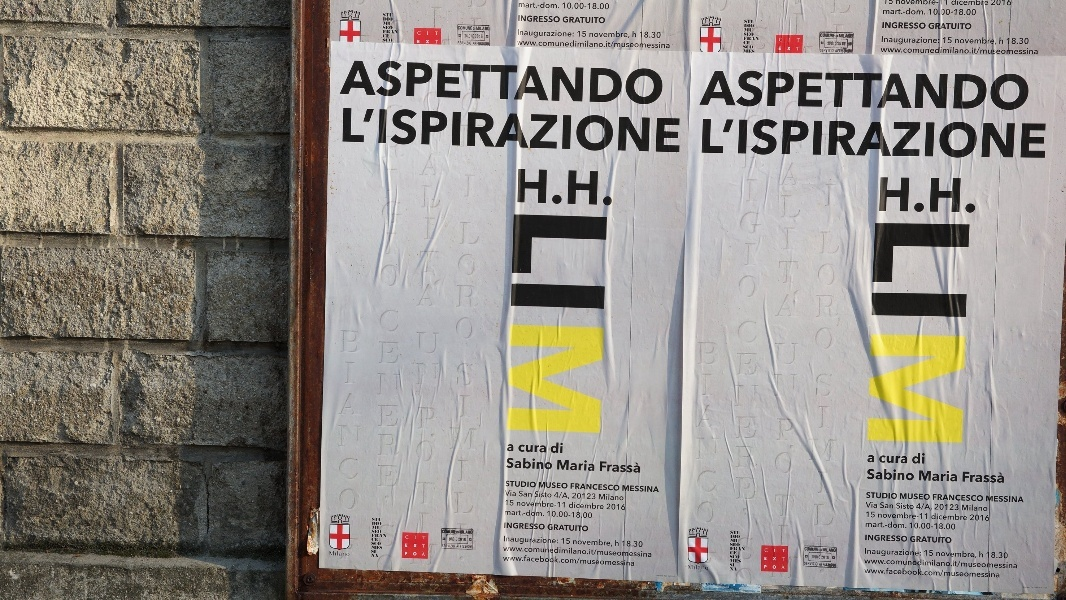text: (881, 221, 896, 444), (897, 221, 912, 444), (913, 221, 928, 444), (929, 221, 944, 444), (945, 221, 960, 444), (529, 213, 544, 434), (545, 213, 560, 434), (561, 213, 576, 434), (577, 213, 592, 434), (593, 213, 608, 434), (514, 213, 528, 434), (705, 340, 720, 527), (737, 320, 752, 502), (385, 309, 400, 490), (417, 331, 432, 507), (785, 163, 801, 320), (339, 329, 352, 512), (817, 373, 832, 528), (961, 221, 971, 444), (451, 361, 464, 517), (465, 221, 481, 342), (420, 151, 432, 309), (465, 361, 476, 517), (353, 329, 362, 512), (739, 176, 752, 300), (820, 230, 832, 351), (433, 331, 441, 507), (385, 198, 400, 288), (833, 230, 844, 351), (753, 320, 760, 502), (433, 151, 441, 309), (698, 340, 704, 527), (753, 176, 762, 300), (875, 221, 880, 444), (810, 373, 816, 528), (379, 309, 384, 490), (785, 525, 801, 581), (785, 341, 800, 399), (417, 512, 432, 569), (737, 536, 752, 587), (458, 221, 464, 342), (353, 107, 368, 154), (369, 107, 384, 154), (385, 107, 400, 154), (401, 107, 416, 154), (417, 107, 432, 154), (433, 107, 448, 154), (449, 107, 464, 154), (465, 107, 480, 154), (481, 107, 496, 154), (497, 107, 512, 154), (513, 107, 528, 154), (529, 107, 544, 154), (545, 107, 560, 154), (561, 107, 576, 154), (577, 107, 592, 154), (593, 107, 608, 154), (609, 107, 624, 154), (625, 107, 640, 154), (641, 107, 656, 154), (657, 107, 672, 154), (785, 418, 797, 476), (369, 60, 384, 105), (385, 60, 400, 105), (401, 60, 416, 105), (417, 60, 432, 105), (433, 60, 448, 105), (449, 60, 464, 105), (465, 60, 480, 105), (481, 60, 496, 105), (497, 60, 512, 105), (513, 60, 528, 105), (529, 60, 544, 105), (545, 60, 560, 105), (561, 60, 576, 105), (577, 60, 592, 105), (593, 60, 608, 105), (609, 60, 624, 105), (625, 60, 640, 105), (641, 60, 656, 105), (385, 523, 397, 576), (705, 119, 720, 160), (721, 119, 736, 160), (737, 119, 752, 160), (753, 119, 768, 160), (769, 119, 784, 160), (785, 119, 800, 160), (801, 119, 816, 160), (817, 119, 832, 160), (833, 119, 848, 160), (849, 119, 864, 160), (865, 119, 880, 160), (881, 119, 896, 160), (897, 119, 912, 160), (913, 119, 928, 160), (929, 119, 944, 160), (945, 119, 960, 160), (961, 119, 976, 160), (977, 119, 992, 160), (993, 119, 1008, 160), (1009, 119, 1024, 160), (1025, 119, 1040, 160), (721, 71, 736, 111), (737, 71, 752, 111), (753, 71, 768, 111), (769, 71, 784, 111), (785, 71, 800, 111), (801, 71, 816, 111), (817, 71, 832, 111), (833, 71, 848, 111), (849, 71, 864, 111), (865, 71, 880, 111), (881, 71, 896, 111), (897, 71, 912, 111), (913, 71, 928, 111), (929, 71, 944, 111), (945, 71, 960, 111), (961, 71, 976, 111), (977, 71, 992, 111), (993, 71, 1008, 111), (1009, 71, 1024, 111), (355, 60, 368, 105), (529, 169, 544, 207), (545, 169, 560, 207), (561, 169, 576, 207), (577, 169, 592, 207), (593, 169, 608, 207), (881, 177, 896, 215), (897, 177, 912, 215), (913, 177, 928, 215), (929, 177, 944, 215), (945, 177, 960, 215), (961, 177, 976, 215), (776, 341, 784, 399), (433, 512, 441, 569), (343, 107, 352, 154), (777, 418, 784, 476), (777, 525, 784, 581), (657, 60, 665, 105), (401, 198, 405, 288), (519, 169, 528, 207), (673, 107, 680, 154), (782, 163, 784, 320), (833, 373, 835, 528), (785, 494, 797, 519), (465, 173, 476, 199), (773, 494, 784, 519), (379, 523, 384, 576), (513, 554, 528, 568), (529, 554, 544, 568), (545, 554, 560, 568), (561, 554, 576, 568), (577, 554, 592, 568), (593, 554, 608, 568), (609, 554, 624, 568), (833, 182, 841, 208), (1041, 119, 1046, 160), (753, 536, 757, 587), (715, 71, 720, 111), (513, 458, 528, 471), (529, 458, 544, 471), (513, 545, 528, 558), (529, 545, 544, 558), (545, 545, 560, 558), (561, 545, 576, 558), (577, 545, 592, 558), (593, 545, 608, 558), (609, 545, 624, 558), (625, 545, 640, 558), (625, 462, 641, 474), (721, 340, 722, 527), (825, 182, 832, 208), (401, 309, 402, 490), (561, 460, 576, 472), (577, 460, 592, 472), (609, 462, 624, 474), (881, 469, 896, 481), (897, 469, 912, 481), (977, 472, 992, 484), (913, 453, 928, 464), (929, 471, 944, 482), (865, 558, 880, 569), (881, 558, 896, 569), (897, 558, 912, 569), (913, 558, 928, 569), (929, 558, 944, 569), (945, 558, 960, 569), (961, 558, 976, 569), (977, 558, 992, 569), (993, 558, 1008, 569), (865, 567, 880, 578), (881, 567, 896, 578), (897, 567, 912, 578), (913, 567, 928, 578), (929, 567, 944, 578), (945, 567, 960, 578), (961, 567, 976, 578), (977, 567, 992, 578), (1025, 71, 1029, 111), (963, 472, 976, 484), (529, 39, 544, 49), (545, 39, 560, 49), (561, 39, 576, 49), (577, 39, 592, 49), (593, 39, 608, 49), (609, 39, 624, 49), (625, 39, 640, 49), (641, 39, 656, 49), (868, 469, 880, 481), (993, 472, 1005, 484), (945, 471, 958, 482), (641, 545, 652, 558), (657, 39, 671, 49), (625, 554, 635, 568), (529, 29, 544, 38), (545, 29, 560, 38), (897, 37, 912, 46), (913, 37, 928, 46), (961, 36, 976, 45), (977, 36, 992, 45), (881, 46, 896, 55), (897, 46, 912, 55), (913, 46, 928, 55), (929, 46, 944, 55), (945, 46, 960, 55), (961, 46, 976, 55), (977, 46, 992, 55), (993, 46, 1008, 55), (1009, 46, 1024, 55), (577, 482, 592, 491), (593, 482, 608, 491), (513, 536, 528, 545), (529, 536, 544, 545), (577, 539, 592, 548), (593, 539, 608, 548), (865, 548, 880, 557), (881, 548, 896, 557), (897, 548, 912, 557), (945, 550, 960, 559), (961, 550, 976, 559), (502, 545, 512, 558), (561, 29, 575, 38), (882, 37, 896, 46), (1025, 46, 1039, 55), (545, 536, 559, 545), (503, 554, 512, 568), (529, 2, 544, 10), (545, 2, 560, 10), (577, 2, 592, 10), (593, 2, 608, 10), (577, 16, 592, 24), (593, 31, 608, 39), (609, 31, 624, 39), (561, 511, 576, 519), (577, 511, 592, 519), (529, 445, 544, 453), (881, 456, 896, 464), (897, 8, 912, 16), (513, 480, 528, 488), (625, 485, 640, 493), (641, 485, 656, 493), (577, 502, 592, 510), (561, 524, 576, 532), (625, 540, 640, 548), (945, 494, 960, 502), (961, 494, 976, 502), (881, 512, 896, 520), (897, 512, 912, 520), (913, 512, 928, 520), (945, 513, 960, 521), (881, 521, 896, 529), (881, 534, 896, 542), (609, 169, 612, 207), (545, 16, 561, 23), (529, 510, 545, 517), (529, 523, 545, 530), (1009, 496, 1025, 503), (866, 521, 880, 529), (866, 534, 880, 542), (945, 503, 959, 511), (993, 552, 1009, 559), (517, 39, 528, 49), (529, 16, 544, 23), (641, 32, 656, 39), (929, 9, 944, 16), (945, 9, 960, 16), (961, 9, 976, 16), (913, 523, 928, 530), (929, 523, 944, 530), (897, 22, 912, 29), (929, 23, 944, 30), (945, 23, 960, 30), (1009, 38, 1024, 45), (545, 482, 560, 489), (529, 501, 544, 508), (545, 501, 560, 508), (513, 510, 528, 517), (609, 494, 624, 501), (609, 504, 624, 511), (577, 493, 592, 500), (513, 523, 528, 530), (881, 492, 896, 499), (913, 494, 928, 501), (993, 496, 1008, 503), (881, 502, 896, 509), (897, 503, 912, 510), (913, 536, 928, 543), (929, 536, 944, 543), (563, 2, 576, 10), (563, 16, 576, 24), (593, 16, 606, 24), (545, 458, 553, 471), (913, 8, 926, 16), (963, 504, 976, 512), (929, 37, 940, 46), (609, 482, 620, 491), (1009, 558, 1018, 569), (578, 31, 592, 38), (913, 22, 927, 29), (562, 538, 576, 545), (866, 502, 880, 509), (548, 511, 560, 519), (600, 462, 608, 474), (884, 8, 896, 16), (593, 502, 605, 510), (548, 524, 560, 532), (577, 524, 589, 532), (769, 564, 785, 570), (932, 513, 944, 521), (883, 22, 896, 29), (977, 515, 990, 522), (518, 29, 528, 38), (689, 565, 704, 571), (383, 198, 384, 288), (869, 455, 880, 463), (897, 456, 908, 464), (920, 471, 928, 482), (933, 494, 944, 502), (977, 504, 988, 512), (897, 534, 908, 542), (868, 492, 880, 499), (866, 512, 880, 518), (980, 551, 992, 558), (702, 119, 704, 160), (913, 548, 922, 557), (897, 521, 907, 529), (918, 503, 928, 511), (337, 551, 350, 557), (945, 523, 956, 530), (553, 443, 560, 454), (961, 23, 972, 30), (901, 494, 912, 501), (993, 567, 1000, 578), (897, 1, 912, 6), (913, 1, 928, 6), (929, 1, 944, 6), (961, 1, 976, 6), (993, 1, 1008, 6), (449, 537, 464, 542), (519, 2, 528, 10), (519, 445, 528, 453), (936, 550, 944, 559), (935, 503, 944, 511), (418, 31, 432, 36), (518, 501, 528, 508), (561, 493, 571, 500), (405, 543, 416, 549), (529, 480, 537, 488), (769, 549, 785, 553), (769, 557, 785, 561), (519, 16, 528, 23), (535, 491, 544, 498), (599, 494, 608, 501), (505, 536, 512, 545), (484, 26, 496, 31), (785, 38, 800, 42), (785, 47, 800, 51), (977, 1, 989, 6), (449, 530, 464, 534), (820, 548, 832, 553), (1025, 586, 1040, 590), (466, 26, 480, 30), (466, 34, 480, 38), (418, 40, 432, 44), (833, 42, 847, 46), (1000, 37, 1008, 44), (520, 491, 528, 498), (569, 502, 576, 510), (616, 540, 624, 547), (961, 513, 968, 521), (405, 552, 416, 557), (805, 547, 816, 552), (570, 482, 576, 491), (417, 543, 426, 549), (385, 30, 398, 34), (508, 458, 512, 471), (371, 554, 384, 558), (817, 555, 830, 559), (886, 1, 896, 6), (633, 31, 640, 38), (945, 37, 952, 44), (561, 482, 568, 489), (545, 491, 552, 498), (505, 523, 512, 530), (945, 536, 952, 543), (625, 31, 631, 39), (836, 34, 848, 38), (836, 49, 848, 53), (506, 480, 512, 488), (372, 518, 384, 522), (372, 530, 384, 534), (372, 534, 384, 538), (372, 538, 384, 542), (372, 542, 384, 546), (372, 546, 384, 550), (372, 550, 384, 554), (820, 563, 832, 567), (977, 494, 983, 502), (993, 36, 998, 45), (657, 575, 672, 578), (417, 552, 426, 557), (821, 34, 832, 38), (821, 49, 832, 53), (805, 562, 816, 566), (505, 491, 512, 497), (506, 510, 512, 517), (329, 551, 336, 557), (970, 515, 976, 522), (952, 1, 960, 6), (406, 536, 416, 540), (929, 503, 934, 511), (467, 42, 480, 45), (481, 42, 490, 46), (956, 36, 960, 45), (506, 500, 512, 506), (609, 539, 613, 548), (417, 536, 426, 540), (539, 482, 544, 489), (561, 501, 566, 508), (449, 544, 456, 549), (987, 496, 992, 503), (987, 552, 992, 559), (373, 522, 384, 525), (373, 526, 384, 529), (385, 13, 393, 17), (385, 17, 393, 21), (385, 26, 393, 30), (385, 38, 393, 42), (744, 33, 752, 37), (744, 37, 752, 41), (744, 41, 752, 45), (744, 45, 752, 49), (744, 49, 752, 53), (508, 444, 512, 452), (465, 530, 473, 534), (465, 545, 473, 549), (737, 547, 745, 551), (433, 31, 439, 36), (442, 544, 448, 549), (929, 550, 934, 556), (657, 32, 661, 39), (745, 20, 752, 24), (745, 24, 752, 28), (745, 28, 752, 32), (753, 37, 760, 41), (1025, 38, 1029, 45), (556, 493, 560, 500), (457, 545, 464, 549), (1041, 586, 1048, 590), (573, 539, 576, 548), (463, 173, 464, 199), (731, 530, 736, 535), (474, 42, 480, 46), (433, 40, 439, 44), (558, 460, 560, 472), (593, 460, 595, 472), (913, 469, 915, 481), (657, 485, 660, 493), (513, 491, 517, 497), (705, 565, 709, 571), (442, 530, 448, 534), (730, 555, 736, 559), (730, 563, 736, 567), (730, 567, 736, 571), (764, 564, 768, 570), (561, 443, 563, 454), (385, 22, 392, 25), (529, 491, 532, 498), (573, 493, 576, 500), (593, 493, 596, 500), (385, 34, 390, 38), (779, 47, 784, 51), (849, 34, 854, 38), (737, 530, 741, 535), (731, 543, 736, 547), (731, 547, 736, 551), (731, 551, 736, 555), (731, 559, 736, 563), (737, 559, 742, 563), (833, 548, 837, 553), (925, 550, 928, 556), (590, 31, 592, 39), (780, 38, 784, 42), (849, 49, 853, 53), (828, 42, 832, 46), (545, 445, 547, 453), (641, 540, 643, 548), (812, 555, 816, 559), (477, 26, 480, 31), (945, 1, 948, 6), (1009, 1, 1012, 6), (673, 575, 678, 578), (731, 535, 736, 538), (731, 539, 736, 542), (910, 523, 912, 530), (929, 494, 931, 501), (910, 536, 912, 543), (481, 34, 484, 38), (753, 20, 756, 24), (753, 49, 756, 53), (833, 34, 836, 38), (737, 543, 740, 547), (737, 555, 740, 559), (765, 549, 768, 553), (765, 557, 768, 561), (833, 563, 836, 567), (481, 26, 483, 31), (465, 537, 467, 542), (817, 547, 819, 552), (737, 535, 740, 538), (977, 550, 978, 559), (609, 2, 610, 10), (753, 24, 755, 28), (753, 33, 755, 37), (513, 444, 514, 452), (623, 485, 624, 493), (623, 540, 624, 548), (385, 534, 387, 538), (879, 512, 880, 520), (1022, 586, 1024, 590), (943, 37, 944, 44), (1007, 38, 1008, 45), (607, 504, 608, 511), (625, 504, 626, 511), (897, 492, 898, 499), (913, 503, 914, 510), (513, 500, 514, 506), (737, 539, 739, 542), (383, 17, 384, 21), (383, 26, 384, 30), (383, 34, 384, 38), (383, 38, 384, 42), (753, 45, 754, 49), (833, 49, 834, 53), (737, 551, 738, 555), (737, 567, 738, 571), (817, 562, 818, 566)
